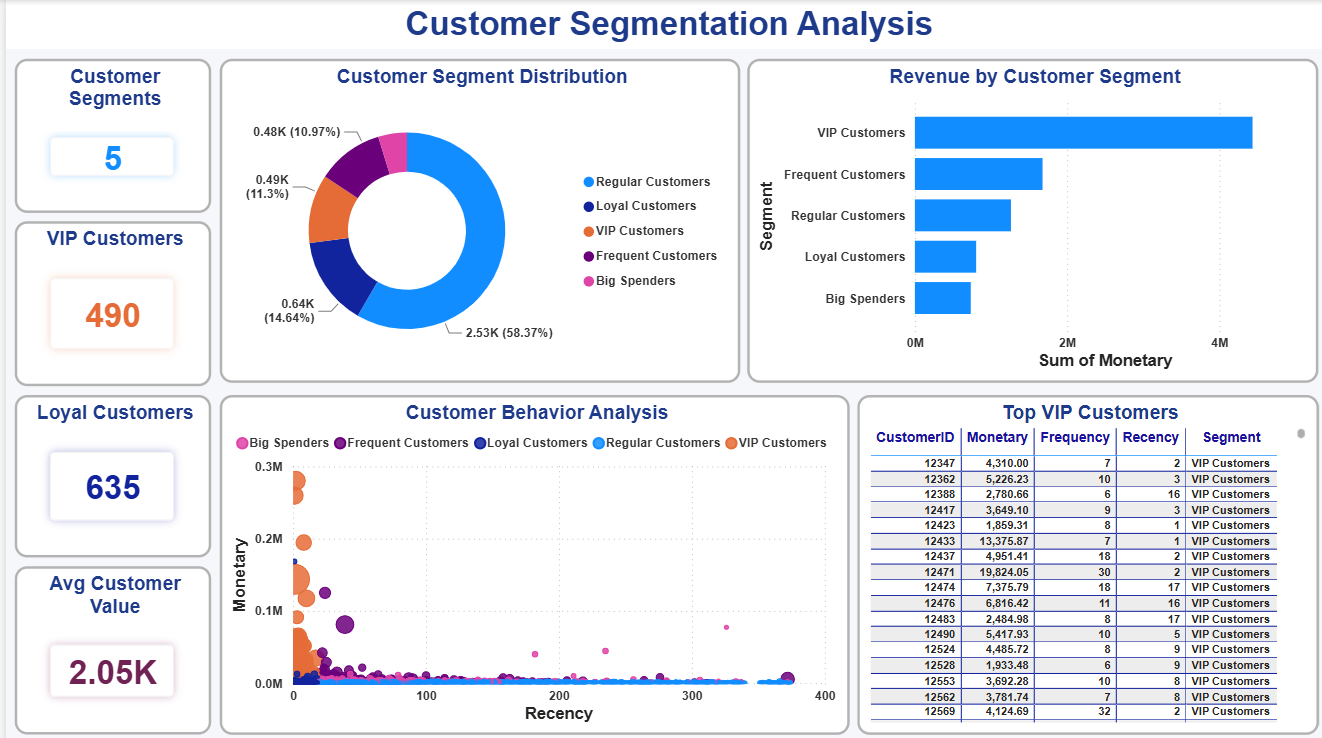

This screenshot's page, from the dashboard's own definition file:
{"tool":"powerbi","page":{"name":"Customer Segmentation Analysis","canvas":[1280,720],"ordinal":1},"visuals":[{"type":"textbox","box":[0,0,1280.4,47.3],"z":0},{"type":"cardVisual","title":"Customer Segments","fields":{"Data":["cleaned ecommerce data.Total Segments"]},"box":[8.9,56.8,189.2,149.2],"z":1000},{"type":"cardVisual","title":"VIP Customers","fields":{"Data":["cleaned ecommerce data.VIP Customers"]},"box":[8.9,213.7,189.2,159.2],"z":2000},{"type":"cardVisual","title":"Avg Customer Value","fields":{"Data":["cleaned ecommerce data.Avg Monetary Value"]},"box":[8.9,546.6,189.2,162.5],"z":3000},{"type":"cardVisual","title":"Loyal Customers","fields":{"Data":["cleaned ecommerce data.Loyal Customers"]},"box":[8.9,380.7,189.2,157],"z":4000},{"type":"donutChart","title":"Customer Segment Distribution","fields":{"Category":["rfm customer segments.Segment"],"Y":["CountNonNull(rfm customer segments.CustomerID)"]},"box":[205.9,56.8,502,312.8],"z":5000},{"type":"clusteredBarChart","title":"Revenue by Customer Segment","fields":{"Category":["rfm customer segments.Segment"],"Y":["Sum(rfm customer segments.Monetary)"]},"box":[715.8,56.8,551,312.8],"z":6000},{"type":"scatterChart","title":"Customer Behavior Analysis","fields":{"X":["rfm customer segments.Recency"],"Y":["rfm customer segments.Monetary"],"Series":["rfm customer segments.Segment"],"Size":["Sum(rfm customer segments.Frequency)"]},"box":[205.9,380.7,607.8,328.4],"z":7000},{"type":"tableEx","title":"Top VIP Customers","fields":{"Values":["rfm customer segments.CustomerID","rfm customer segments.Monetary","rfm customer segments.Frequency","rfm customer segments.Recency","rfm customer segments.Segment"]},"box":[821.5,380.7,445.3,328.4],"z":8000}]}

Visuals, with their boxes in screenshot pixels (x1, y1, x2, y2), scaled from the page's 1280x720 canvas onto the 1322x738 screenshot:
textbox: rect(0, 0, 1321, 48)
"Customer Segments" cardVisual: rect(9, 58, 205, 211)
"VIP Customers" cardVisual: rect(9, 219, 205, 382)
"Avg Customer Value" cardVisual: rect(9, 560, 205, 727)
"Loyal Customers" cardVisual: rect(9, 390, 205, 551)
"Customer Segment Distribution" donutChart: rect(213, 58, 731, 379)
"Revenue by Customer Segment" clusteredBarChart: rect(739, 58, 1308, 379)
"Customer Behavior Analysis" scatterChart: rect(213, 390, 840, 727)
"Top VIP Customers" tableEx: rect(848, 390, 1308, 727)
